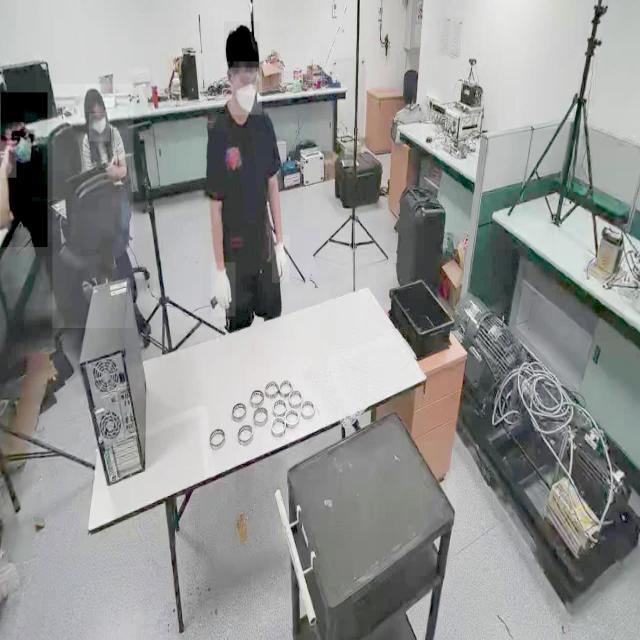face_mask: (230, 68, 262, 114), (12, 130, 34, 172), (89, 113, 110, 141)
hand_glove: (210, 262, 236, 318), (272, 234, 290, 284)
hand_noglove: (0, 142, 16, 179)
head_nohelmet: (223, 22, 260, 62), (85, 84, 104, 113), (2, 100, 24, 122)
person: (202, 28, 286, 334), (52, 83, 134, 329), (0, 92, 48, 248)
